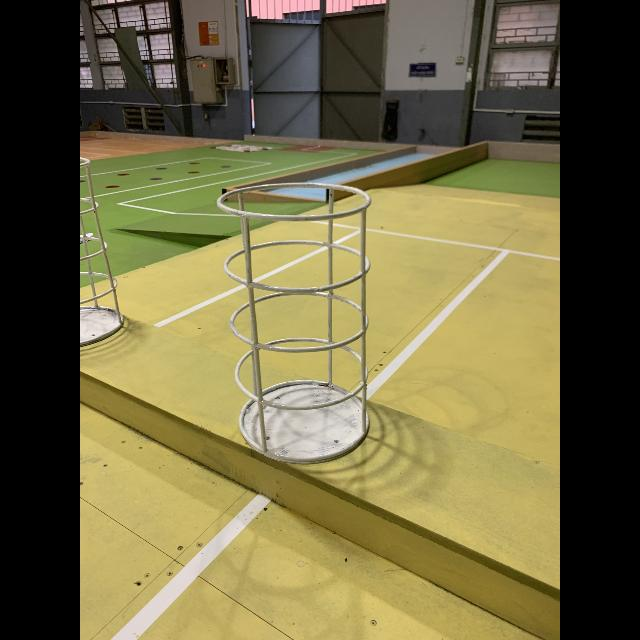S: (215, 180, 372, 464), (80, 156, 126, 352)
